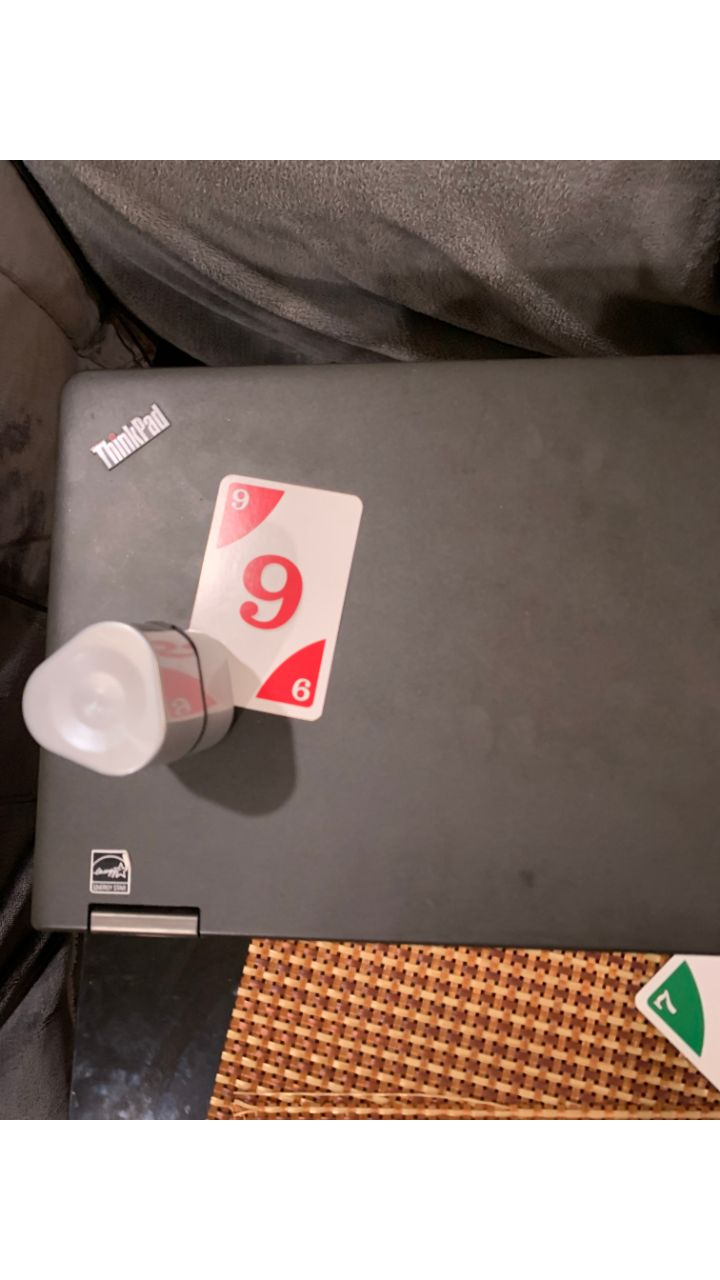nine: (195, 473, 362, 728)
